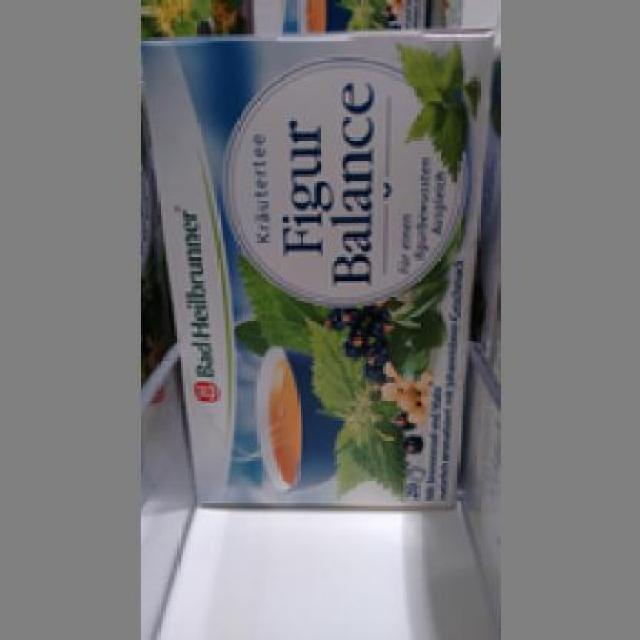Tea: (139, 19, 492, 512)
